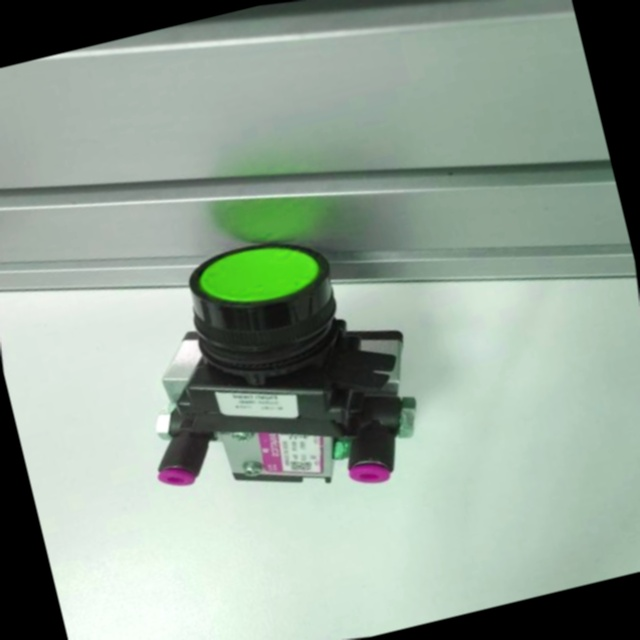push button: (102, 194, 456, 539)
